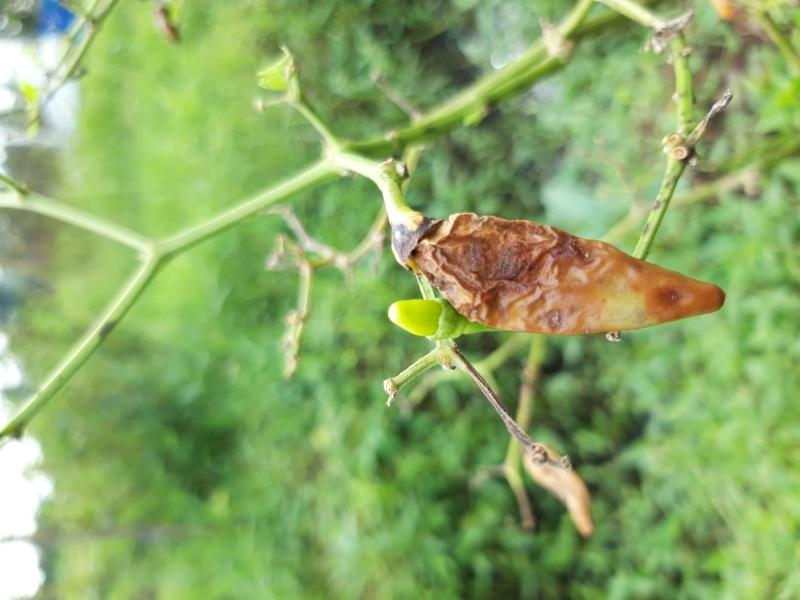antraknosa: (420, 214, 727, 334)
cabai_normal: (389, 299, 443, 339)
